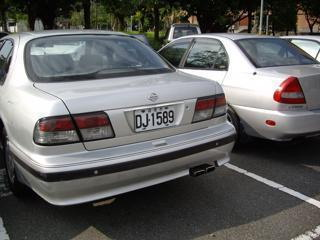plate: (132, 104, 175, 128)
